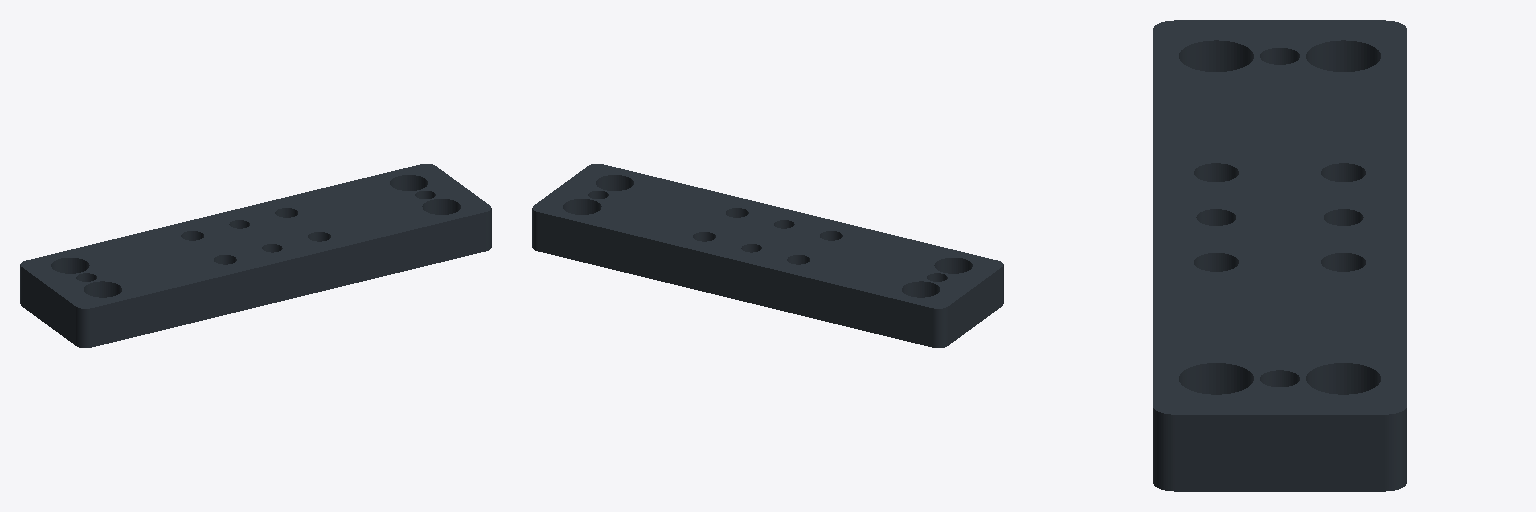
robot.urdf — ati_9005_50_6091:
<robot name="ati_9005_50_6091">
  <!--CC0 procedural reference. See ../README.md; no physical fit or calibrated cutting TCP is asserted.-->
  <link name="mount">
    <visual>
      <geometry>
        <mesh filename="../meshes/bracket_plate.stl" />
      </geometry>
      <material name="bracket_plate">
        <color rgba=".24 .27 .30 1" />
      </material>
    </visual>
    <collision>
      <origin xyz="0.0 0.0 0.00635" rpy="0 0 0" />
      <geometry>
        <box size="0.1397 0.0381 0.0127" />
      </geometry>
    </collision>
  </link>
  <link name="tcp" />
  <joint name="tcp_joint" type="fixed">
    <parent link="mount" />
    <child link="tcp" />
    <origin xyz="0 0 0.0" rpy="0 0 0" />
  </joint>
  <link name="flange" />
  <joint name="flange_joint" type="fixed">
    <parent link="mount" />
    <child link="flange" />
    <origin xyz="0 0 0.0127" rpy="0 0 0" />
  </joint>
</robot>

--- Render facts (derived) ---
The picture shows the robot from 3 angles, left to right: view 1: azimuth 30°, elevation 25°; view 2: azimuth 150°, elevation 25°; view 3: azimuth 270°, elevation 25°; orthographic projection.
Robot: ati_9005_50_6091 — 3 links, 2 joints (2 fixed); root link mount; default pose: all joints at 0.
Links seen in each view (by area): view 1: mount; view 2: mount; view 3: mount.
Boxes of the visible links, x1,y1,x2,y2 form: mount: [20, 164, 491, 347]; mount: [532, 164, 1003, 347]; mount: [1153, 20, 1406, 491].
Bounding box of the posed robot: 0.1397 × 0.0381 × 0.0127 m (x, y, z).
1 mesh visuals loaded from 1 distinct referenced files (1 binary STL).
